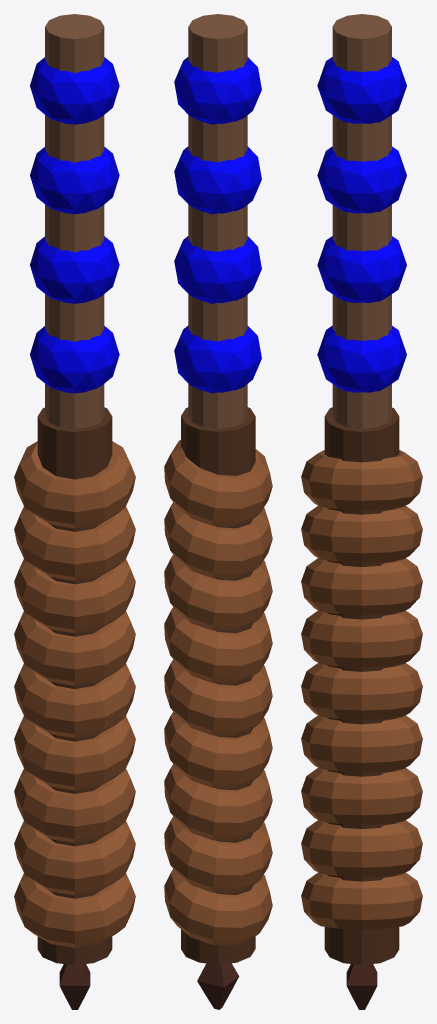
The model's file is Wand 435.glb.
3 renders of one model, left to right at view 1: azimuth 90°, elevation 25°; view 2: azimuth 150°, elevation 25°; view 3: azimuth 270°, elevation 25°, orthographic.
Visible parts, largest first — view 1: GeneratedWand; view 2: GeneratedWand; view 3: GeneratedWand.
Boxes of the visible parts, x1,y1,x2,y2 form: GeneratedWand: (14, 14, 135, 1009); GeneratedWand: (164, 14, 272, 1009); GeneratedWand: (301, 14, 422, 1009).
Size of the model in its own units: 0.0497 by 0.5171 by 0.0581.
